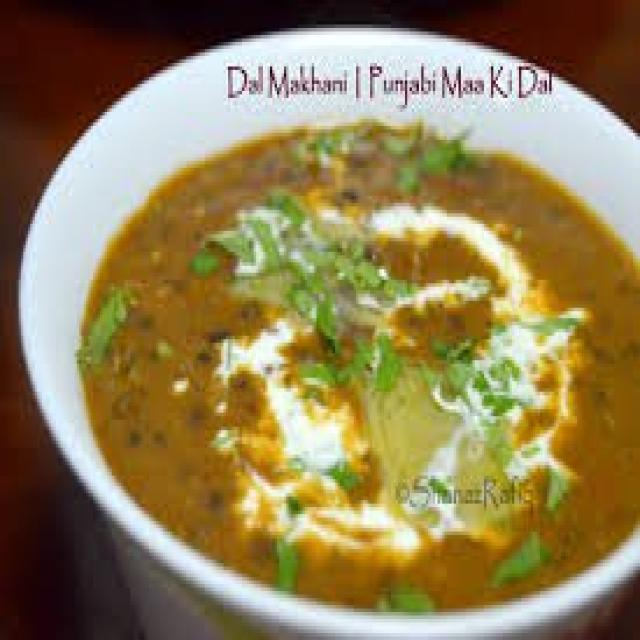dal_makhani: (76, 109, 640, 622)
